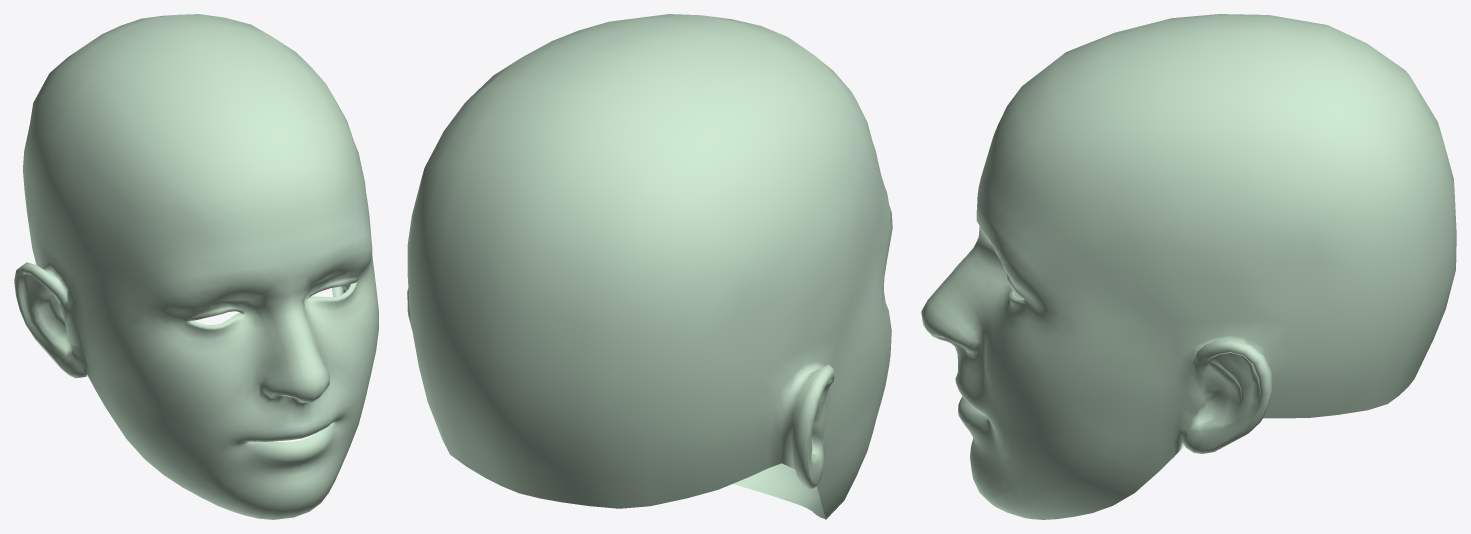
Rendered from head_2-2-1.glb.
3 renders of one model, left to right at view 1: azimuth 30°, elevation 25°; view 2: azimuth 150°, elevation 25°; view 3: azimuth 270°, elevation 25°, orthographic. The views are drawn at different scales.
Visible parts, largest first — view 1: head; view 2: head; view 3: head.
Boxes of the visible parts, bbox=[...] form: head: bbox=[14, 14, 378, 519]; head: bbox=[407, 14, 892, 519]; head: bbox=[921, 14, 1456, 519].
Bounding box in the file's own units: 3.01 × 3.66 × 3.74.
